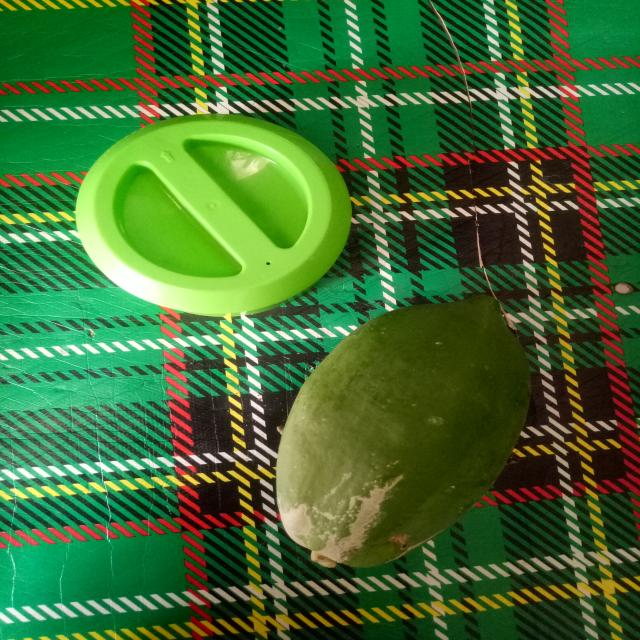Pepaya unrippen: (277, 292, 536, 569)
